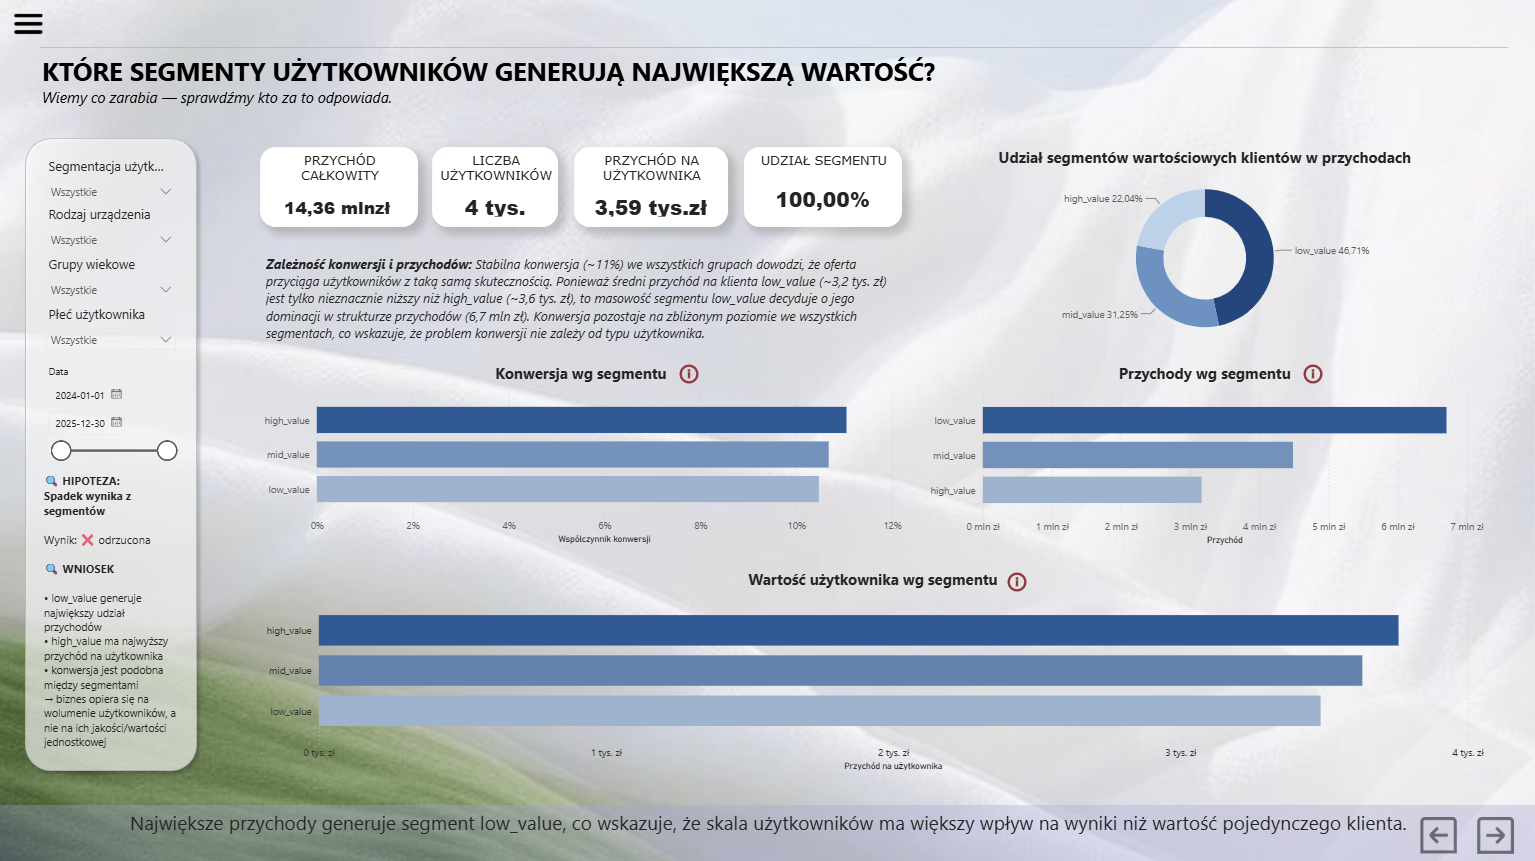

What the dashboard file says about the page in this screenshot:
{"tool":"powerbi","page":{"name":"SEGMENTACJA UŻYTKOWNIKÓW","canvas":[1920,1080],"ordinal":5},"visuals":[{"type":"shape","box":[0,138.7,279,869.4],"z":1000},{"type":"shape","box":[23.5,164.7,232.4,808.8],"z":2000},{"type":"textbox","box":[51.3,66.7,1802.6,97.4],"z":3000},{"type":"slicer","fields":{"Values":["users.segment"]},"box":[46.4,192.9,182.1,60.7],"z":4000},{"type":"slicer","fields":{"Values":["fact_ecommerce.device"]},"box":[46.4,253.6,182.1,60.7],"z":5000},{"type":"slicer","fields":{"Values":["users.age_group"]},"box":[46.4,314.3,182.1,67.9],"z":6000},{"type":"clusteredBarChart","title":"Przychody wg segmentu","fields":{"Category":["users.segment"],"Y":["KPI.# Revenue"]},"box":[1157.6,454.5,697,227.3],"z":7000},{"type":"clusteredBarChart","title":"Konwersja wg segmentu","fields":{"Category":["users.segment"],"Y":["KPI.# Conversion"]},"box":[326.1,454.3,802.2,226.1],"z":8000},{"type":"textbox","box":[0,1008.3,1920.8,70.8],"z":9000},{"type":"slicer","fields":{"Values":["users.gender"]},"box":[46.4,378.6,182.1,75],"z":10000},{"type":"slicer","fields":{"Values":["Calendar.Date"]},"box":[46.4,453.6,182.1,150],"z":11000},{"type":"barChart","title":"Wartość użytkownika wg segmentu","fields":{"Category":["users.segment"],"Y":["KPI.# Revenue per User"]},"box":[327.3,712.1,1527.3,251.5],"z":12000},{"type":"textbox","box":[50,698,178,266],"z":13000},{"type":"cardVisual","title":"PRZYCHÓD NA UŻYTKOWNIKA","fields":{"Data":["KPI.# Revenue per User"]},"box":[717.5,185,192.5,100],"z":14000},{"type":"cardVisual","title":"LICZBA UŻYTKOWNIKÓW","fields":{"Data":["KPI.# Users"]},"box":[540,185,157.5,100],"z":15000},{"type":"cardVisual","title":"UDZIAŁ SEGMENTU","fields":{"Data":["KPI.# Revenue Share %"]},"box":[930,185,197.5,100],"z":16000},{"type":"cardVisual","title":"PRZYCHÓD CAŁKOWITY","fields":{"Data":["KPI.# Revenue"]},"box":[325,185,197.5,100],"z":17000},{"type":"donutChart","title":"Udział segmentów wartościowych klientów w przychodach","fields":{"Category":["users.segment"],"Y":["KPI.# Revenue Share %"]},"box":[1157.6,184.8,697,248.5],"z":18000},{"type":"textbox","box":[50,588,176,110],"z":19000},{"type":"textbox","box":[328,314,800,126],"z":20000},{"type":"textbox","box":[50,54.8,1835.7,45.2],"z":22000},{"type":"image","box":[1742.9,1022.9,111.4,45.7],"z":23000},{"type":"image","box":[1827,1021.6,83.8,45.9],"z":24000},{"type":"actionButton","box":[844.2,453.5,86,32.6],"z":25000},{"type":"actionButton","box":[1625.6,453.5,86,32.6],"z":26000},{"type":"actionButton","box":[1255.8,711.6,86,32.6],"z":27000},{"type":"image","box":[0,8.2,71.4,46.9],"z":29000}]}

Visuals, with their boxes in screenshot pixels (x1, y1, x2, y2), scaled from the page's 1920x1080 canvas onto the 1535x861 screenshot:
shape: 0 111 223 804
shape: 19 131 205 776
textbox: 41 53 1482 131
slicer - users.segment: 37 154 183 202
slicer - fact_ecommerce.device: 37 202 183 251
slicer - users.age_group: 37 251 183 305
"Przychody wg segmentu" clusteredBarChart: 925 362 1483 544
"Konwersja wg segmentu" clusteredBarChart: 261 362 902 542
textbox: 0 804 1534 860
slicer - users.gender: 37 302 183 362
slicer - Calendar.Date: 37 362 183 481
"Wartość użytkownika wg segmentu" barChart: 262 568 1483 768
textbox: 40 556 182 769
"PRZYCHÓD NA UŻYTKOWNIKA" cardVisual: 574 147 728 227
"LICZBA UŻYTKOWNIKÓW" cardVisual: 432 147 558 227
"UDZIAŁ SEGMENTU" cardVisual: 744 147 901 227
"PRZYCHÓD CAŁKOWITY" cardVisual: 260 147 418 227
"Udział segmentów wartościowych klientów w przychodach" donutChart: 925 147 1483 345
textbox: 40 469 181 556
textbox: 262 250 902 351
textbox: 40 44 1508 80
image: 1393 815 1482 852
image: 1461 814 1528 851
actionButton: 675 362 744 388
actionButton: 1300 362 1368 388
actionButton: 1004 567 1073 593
image: 0 7 57 44
